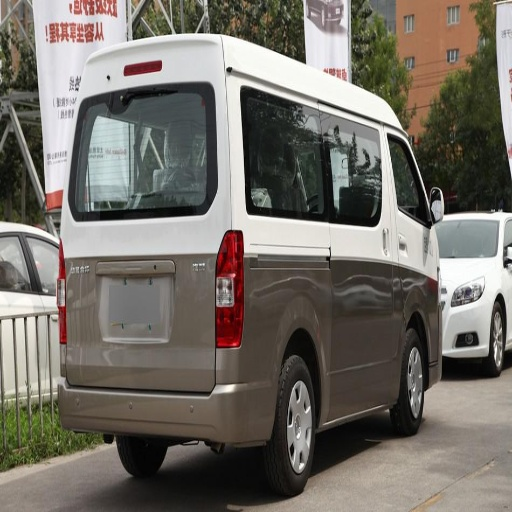back_bumper: (59, 377, 275, 442)
back_right_door: (376, 125, 408, 224)
trunk: (64, 222, 452, 403)
